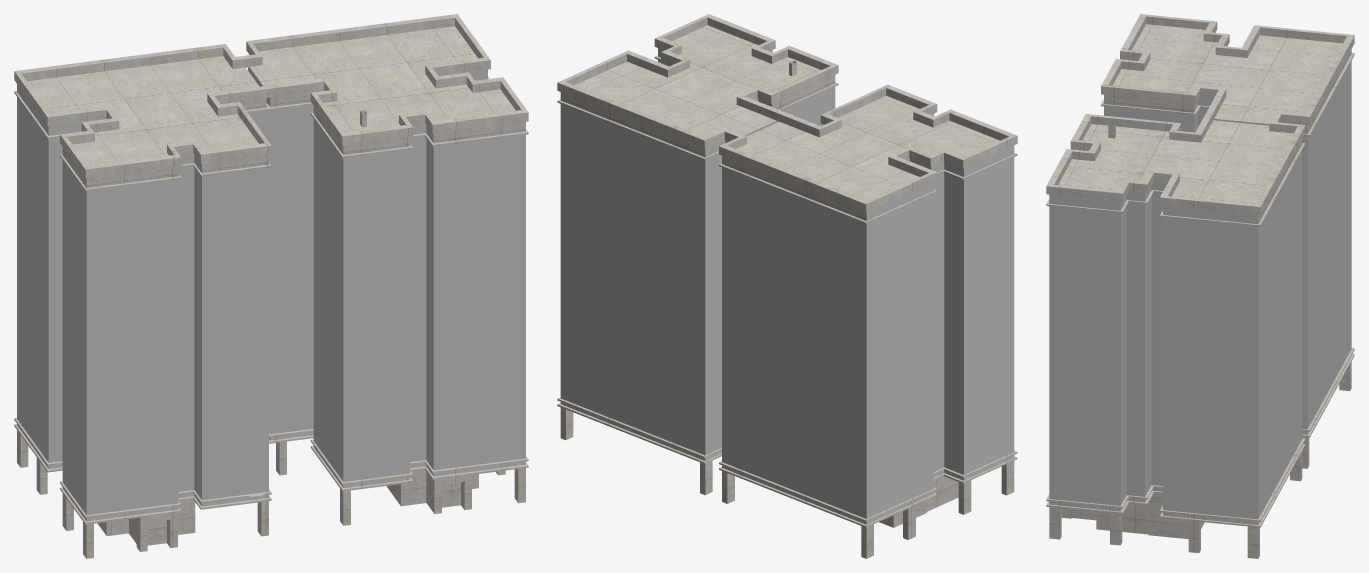
3 renders of one model, left to right at view 1: azimuth 30°, elevation 25°; view 2: azimuth 150°, elevation 25°; view 3: azimuth 270°, elevation 25°, orthographic. The views are drawn at different scales.
Visible parts, largest first — view 1: JZ_JX_629; view 2: JZ_JX_629; view 3: JZ_JX_629.
Part boxes in pixels (x1,y1,x2,y2): JZ_JX_629: (14,14,528,558); JZ_JX_629: (557,14,1017,558); JZ_JX_629: (1046,14,1354,558).
Size of the model in its own units: 3064 by 2643 by 2069.
